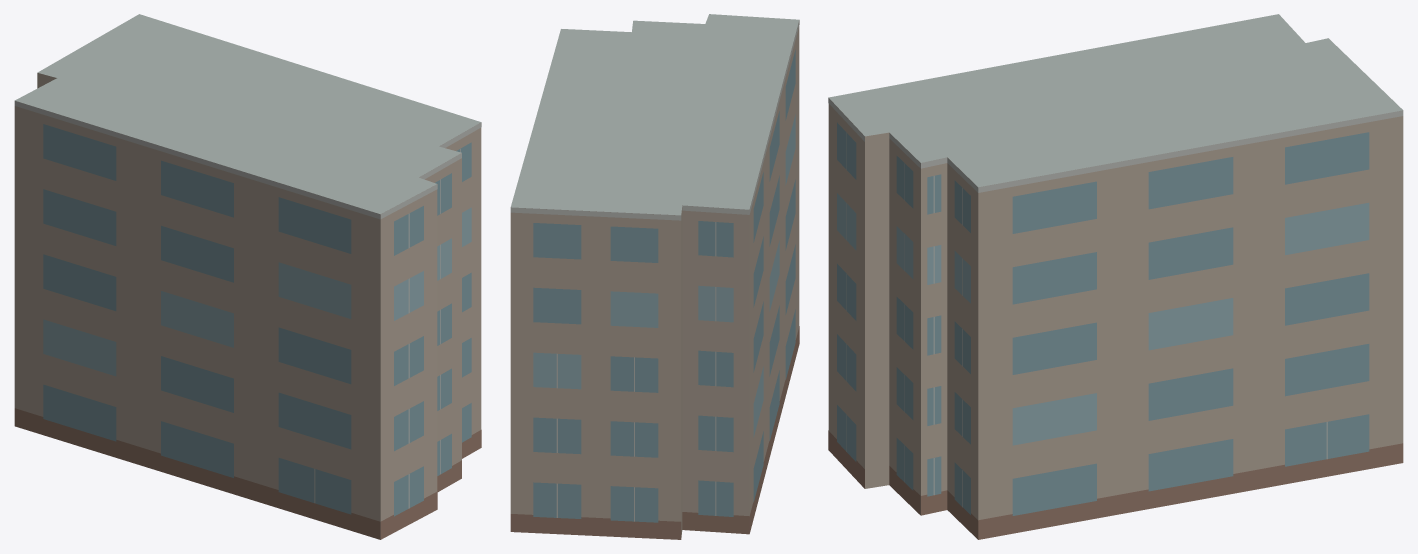
The model's file is survey-upis-32734162.glb.
3 views of the same model, side by side, from view 1: azimuth 30°, elevation 25°; view 2: azimuth 150°, elevation 25°; view 3: azimuth 270°, elevation 25° (orthographic). The views are drawn at different scales.
Parts seen in each view (by area): view 1: survey-upis-32734162.tmp; view 2: survey-upis-32734162.tmp; view 3: survey-upis-32734162.tmp.
Part boxes in pixels (x1,y1,x2,y2): survey-upis-32734162.tmp: (14, 14, 481, 539); survey-upis-32734162.tmp: (510, 14, 799, 539); survey-upis-32734162.tmp: (828, 14, 1403, 539).
Bounding box in the file's own units: 16.09 × 15.25 × 22.55.
